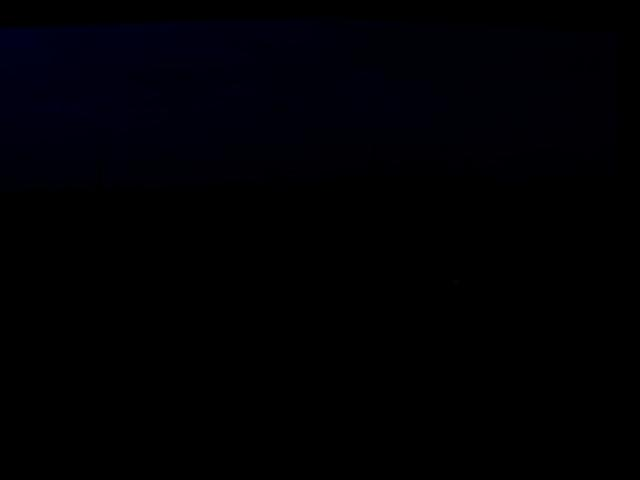plane: (430, 265, 466, 283)
